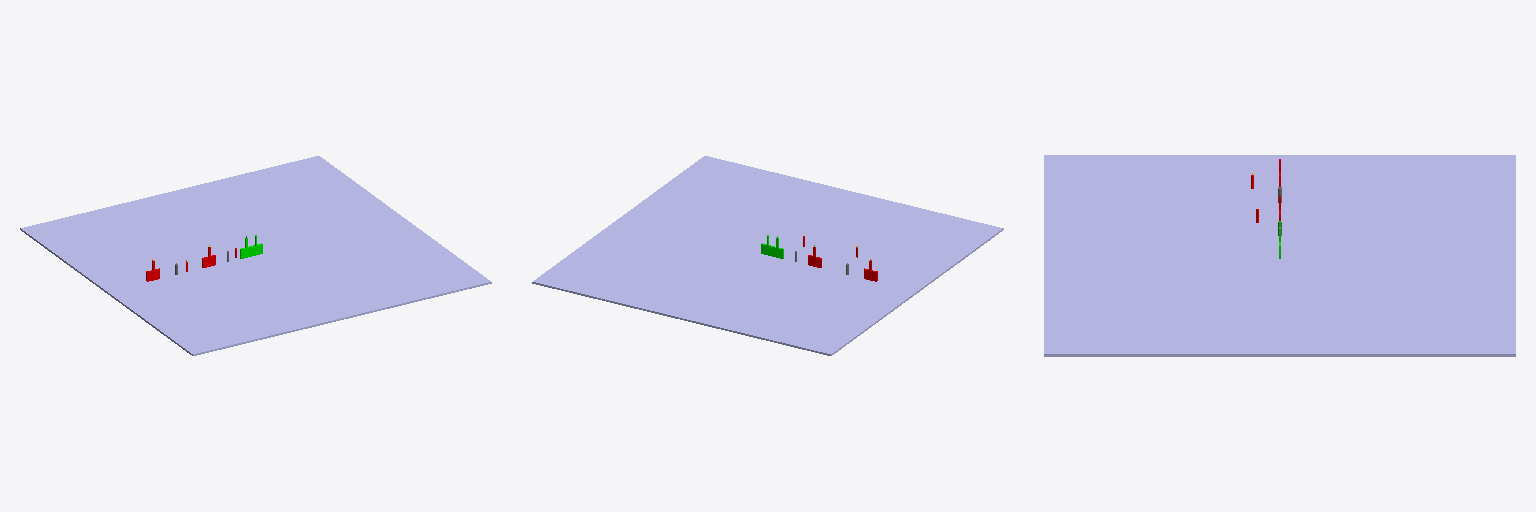
robot.urdf — lockbox_random:
<?xml version="1.0"?>
<!-- created with Phobos 1.0.1 "Capricious Choutengan" -->
  <robot name="lockbox_random">

    <link name="base_link">
      <inertial>
        <origin xyz="0 0 0" rpy="0 0 0"/>
        <mass value="0.001"/>
        <inertia ixx="0.001" ixy="0" ixz="0" iyy="0.001" iyz="0" izz="0.001"/>
      </inertial>
    </link>

    <link name="goal">
      <inertial>
        <origin xyz="0 0 0" rpy="0 0 0"/>
        <mass value="0.001"/>
        <inertia ixx="0.001" ixy="0" ixz="0" iyy="0.001" iyz="0" izz="0.001"/>
      </inertial>
      <visual name="visual_box_1_link_0.001">
        <origin xyz="0 0 0" rpy="0 0 0"/>
        <geometry>
          <box size="1.38803 0.19402 0.99002"/>
        </geometry>
        <material name="green_translucent"/>
      </visual>
    </link>

    <link name="link_0_joint_0">
      <inertial>
        <origin xyz="0 0 0" rpy="0 0 0"/>
        <mass value="0.001"/>
        <inertia ixx="0.001" ixy="0" ixz="0" iyy="0.001" iyz="0" izz="0.001"/>
      </inertial>
      <visual name="visual_box_1_link_0">
        <origin xyz="0 0 0" rpy="0 0 0"/>
        <geometry>
          <box size="1.395 0.195 0.995"/>
        </geometry>
        <material name="green"/>
      </visual>
      <collision name="collision_box_1_link_0">
        <origin xyz="0 0 0" rpy="0 0 0"/>
        <geometry>
          <box size="1.395 0.195 0.995"/>
        </geometry>
      </collision>
    </link>

    <link name="link_1_joint_0">
      <inertial>
        <origin xyz="0 0 0" rpy="0 0 0"/>
        <mass value="0.001"/>
        <inertia ixx="0.001" ixy="0" ixz="0" iyy="0.001" iyz="0" izz="0.001"/>
      </inertial>
      <visual name="visual_mesh_4_link_1">
        <origin xyz="0 0 0" rpy="0 0 0"/>
        <geometry>
          <mesh filename="file://[local-path]/ba/puzzle-generator/puzzles/lockbox_random/meshes/stl/slot_disc.stl" scale="1.0 1.0 1.0"/>
        </geometry>
        <material name="red"/>
      </visual>
      <collision concave="yes" name="collision_mesh_4_link_1">
        <origin xyz="0 0 0" rpy="0 0 0"/>
        <geometry>
          <mesh filename="file://[local-path]/ba/puzzle-generator/puzzles/lockbox_random/meshes/stl/slot_disc.001.stl" scale="1.0 1.0 1.0"/>
        </geometry>
      </collision>
    </link>

    <link name="link_2_joint_0">
      <inertial>
        <origin xyz="0 0 0" rpy="0 0 0"/>
        <mass value="0.001"/>
        <inertia ixx="0.001" ixy="0" ixz="0" iyy="0.001" iyz="0" izz="0.001"/>
      </inertial>
      <visual name="visual_box_8_link_2">
        <origin xyz="0 0 0" rpy="0 0 0"/>
        <geometry>
          <box size="1.395 0.195 0.995"/>
        </geometry>
        <material name="red"/>
      </visual>
      <collision name="collision_box_8_link_2">
        <origin xyz="0 0 0" rpy="0 0 0"/>
        <geometry>
          <box size="1.395 0.195 0.995"/>
        </geometry>
      </collision>
    </link>

    <link name="link_3_joint_0">
      <inertial>
        <origin xyz="0 0 0" rpy="0 0 0"/>
        <mass value="0.001"/>
        <inertia ixx="0.001" ixy="0" ixz="0" iyy="0.001" iyz="0" izz="0.001"/>
      </inertial>
      <visual name="visual_mesh_11_link_3">
        <origin xyz="0 0 0" rpy="0 0 0"/>
        <geometry>
          <mesh filename="file://[local-path]/ba/puzzle-generator/puzzles/lockbox_random/meshes/stl/slot_disc.002.stl" scale="1.0 1.0 1.0"/>
        </geometry>
        <material name="red"/>
      </visual>
      <collision concave="yes" name="collision_mesh_11_link_3">
        <origin xyz="0 0 0" rpy="0 0 0"/>
        <geometry>
          <mesh filename="file://[local-path]/ba/puzzle-generator/puzzles/lockbox_random/meshes/stl/slot_disc.003.stl" scale="1.0 1.0 1.0"/>
        </geometry>
      </collision>
    </link>

    <link name="link_4_joint_0">
      <inertial>
        <origin xyz="0 0 0" rpy="0 0 0"/>
        <mass value="0.001"/>
        <inertia ixx="0.001" ixy="0" ixz="0" iyy="0.001" iyz="0" izz="0.001"/>
      </inertial>
      <visual name="visual_box_15_link_4">
        <origin xyz="0 0 0" rpy="0 0 0"/>
        <geometry>
          <box size="1.395 0.195 0.995"/>
        </geometry>
        <material name="red"/>
      </visual>
      <collision name="collision_box_15_link_4">
        <origin xyz="0 0 0" rpy="0 0 0"/>
        <geometry>
          <box size="1.395 0.195 0.995"/>
        </geometry>
      </collision>
    </link>

    <link name="link_fixed_0_floor">
      <inertial>
        <origin xyz="0 0 0" rpy="0 0 0"/>
        <mass value="0.001"/>
        <inertia ixx="0.001" ixy="0" ixz="0" iyy="0.001" iyz="0" izz="0.001"/>
      </inertial>
      <visual name="visual_box_fixed_0_floor">
        <origin xyz="0 0 0" rpy="0 0 0"/>
        <geometry>
          <box size="31.995 31.995 0.195"/>
        </geometry>
        <material name="lavender"/>
      </visual>
      <collision name="collision_box_fixed_0_floor">
        <origin xyz="0 0 0" rpy="0 0 0"/>
        <geometry>
          <box size="31.995 31.995 0.195"/>
        </geometry>
      </collision>
    </link>

    <link name="link_fixed_10_handle_knob">
      <inertial>
        <origin xyz="0 0 0" rpy="0 0 0"/>
        <mass value="0.001"/>
        <inertia ixx="0.001" ixy="0" ixz="0" iyy="0.001" iyz="0" izz="0.001"/>
      </inertial>
      <visual name="visual_box_fixed_10_handle_knob">
        <origin xyz="0 0 0" rpy="0 0 0"/>
        <geometry>
          <box size="0.045 0.045 0.195"/>
        </geometry>
        <material name="yellow"/>
      </visual>
      <collision name="collision_box_fixed_10_handle_knob">
        <origin xyz="0 0 0" rpy="0 0 0"/>
        <geometry>
          <box size="0.045 0.045 0.195"/>
        </geometry>
      </collision>
    </link>

    <link name="link_fixed_12_hinge">
      <inertial>
        <origin xyz="0 0 0" rpy="0 0 0"/>
        <mass value="0.001"/>
        <inertia ixx="0.001" ixy="0" ixz="0" iyy="0.001" iyz="0" izz="0.001"/>
      </inertial>
      <visual name="visual_cylinder_fixed_12_hinge">
        <origin xyz="0 0 0" rpy="0 0 0"/>
        <geometry>
          <cylinder radius="0.15375" length="1.095"/>
        </geometry>
        <material name="gray"/>
      </visual>
    </link>

    <link name="link_fixed_13_handle_shaft">
      <inertial>
        <origin xyz="0 0 0" rpy="0 0 0"/>
        <mass value="0.001"/>
        <inertia ixx="0.001" ixy="0" ixz="0" iyy="0.001" iyz="0" izz="0.001"/>
      </inertial>
      <visual name="visual_cylinder_fixed_13_handle_shaft">
        <origin xyz="0 0 0" rpy="0 0 0"/>
        <geometry>
          <cylinder radius="0.0975" length="0.995"/>
        </geometry>
        <material name="red"/>
      </visual>
      <collision name="collision_cylinder_fixed_13_handle_shaft">
        <origin xyz="0 0 0" rpy="0 0 0"/>
        <geometry>
          <cylinder radius="0.0975" length="0.995"/>
        </geometry>
      </collision>
    </link>

    <link name="link_fixed_14_handle_knob">
      <inertial>
        <origin xyz="0 0 0" rpy="0 0 0"/>
        <mass value="0.001"/>
        <inertia ixx="0.001" ixy="0" ixz="0" iyy="0.001" iyz="0" izz="0.001"/>
      </inertial>
      <visual name="visual_box_fixed_14_handle_knob">
        <origin xyz="0 0 0" rpy="0 0 0"/>
        <geometry>
          <box size="0.045 0.045 0.195"/>
        </geometry>
        <material name="yellow"/>
      </visual>
      <collision name="collision_box_fixed_14_handle_knob">
        <origin xyz="0 0 0" rpy="0 0 0"/>
        <geometry>
          <box size="0.045 0.045 0.195"/>
        </geometry>
      </collision>
    </link>

    <link name="link_fixed_16_handle_shaft">
      <inertial>
        <origin xyz="0 0 0" rpy="0 0 0"/>
        <mass value="0.001"/>
        <inertia ixx="0.001" ixy="0" ixz="0" iyy="0.001" iyz="0" izz="0.001"/>
      </inertial>
      <visual name="visual_box_fixed_16_handle_shaft">
        <origin xyz="0 0 0" rpy="0 0 0"/>
        <geometry>
          <box size="0.195 0.195 0.995"/>
        </geometry>
        <material name="red"/>
      </visual>
      <collision name="collision_box_fixed_16_handle_shaft">
        <origin xyz="0 0 0" rpy="0 0 0"/>
        <geometry>
          <box size="0.195 0.195 0.995"/>
        </geometry>
      </collision>
    </link>

    <link name="link_fixed_17_handle_knob">
      <inertial>
        <origin xyz="0 0 0" rpy="0 0 0"/>
        <mass value="0.001"/>
        <inertia ixx="0.001" ixy="0" ixz="0" iyy="0.001" iyz="0" izz="0.001"/>
      </inertial>
      <visual name="visual_box_fixed_17_handle_knob">
        <origin xyz="0 0 0" rpy="0 0 0"/>
        <geometry>
          <box size="0.045 0.045 0.195"/>
        </geometry>
        <material name="yellow"/>
      </visual>
      <collision name="collision_box_fixed_17_handle_knob">
        <origin xyz="0 0 0" rpy="0 0 0"/>
        <geometry>
          <box size="0.045 0.045 0.195"/>
        </geometry>
      </collision>
    </link>

    <link name="link_fixed_2_handle_shaft">
      <inertial>
        <origin xyz="0 0 0" rpy="0 0 0"/>
        <mass value="0.001"/>
        <inertia ixx="0.001" ixy="0" ixz="0" iyy="0.001" iyz="0" izz="0.001"/>
      </inertial>
      <visual name="visual_box_fixed_2_handle_shaft">
        <origin xyz="0 0 0" rpy="0 0 0"/>
        <geometry>
          <box size="0.195 0.195 0.995"/>
        </geometry>
        <material name="green"/>
      </visual>
      <collision name="collision_box_fixed_2_handle_shaft">
        <origin xyz="0 0 0" rpy="0 0 0"/>
        <geometry>
          <box size="0.195 0.195 0.995"/>
        </geometry>
      </collision>
    </link>

    <link name="link_fixed_2_handle_shaft.001">
      <inertial>
        <origin xyz="0 0 0" rpy="0 0 0"/>
        <mass value="0.001"/>
        <inertia ixx="0.001" ixy="0" ixz="0" iyy="0.001" iyz="0" izz="0.001"/>
      </inertial>
      <visual name="visual_box_fixed_2_handle_shaft.001">
        <origin xyz="0 0 0" rpy="0 0 0"/>
        <geometry>
          <box size="0.19402 0.19402 0.99002"/>
        </geometry>
        <material name="green_translucent"/>
      </visual>
    </link>

    <link name="link_fixed_3_handle_knob">
      <inertial>
        <origin xyz="0 0 0" rpy="0 0 0"/>
        <mass value="0.001"/>
        <inertia ixx="0.001" ixy="0" ixz="0" iyy="0.001" iyz="0" izz="0.001"/>
      </inertial>
      <visual name="visual_box_fixed_3_handle_knob">
        <origin xyz="0 0 0" rpy="0 0 0"/>
        <geometry>
          <box size="0.045 0.045 0.195"/>
        </geometry>
        <material name="yellow"/>
      </visual>
      <collision name="collision_box_fixed_3_handle_knob">
        <origin xyz="0 0 0" rpy="0 0 0"/>
        <geometry>
          <box size="0.045 0.045 0.195"/>
        </geometry>
      </collision>
    </link>

    <link name="link_fixed_3_handle_knob.001">
      <inertial>
        <origin xyz="0 0 0" rpy="0 0 0"/>
        <mass value="0.001"/>
        <inertia ixx="0.001" ixy="0" ixz="0" iyy="0.001" iyz="0" izz="0.001"/>
      </inertial>
      <visual name="visual_box_fixed_3_handle_knob.001">
        <origin xyz="0 0 0" rpy="0 0 0"/>
        <geometry>
          <box size="0.04478 0.04478 0.19402"/>
        </geometry>
        <material name="green_translucent"/>
      </visual>
    </link>

    <link name="link_fixed_5_hinge">
      <inertial>
        <origin xyz="0 0 0" rpy="0 0 0"/>
        <mass value="0.001"/>
        <inertia ixx="0.001" ixy="0" ixz="0" iyy="0.001" iyz="0" izz="0.001"/>
      </inertial>
      <visual name="visual_cylinder_fixed_5_hinge">
        <origin xyz="0 0 0" rpy="0 0 0"/>
        <geometry>
          <cylinder radius="0.1225" length="1.095"/>
        </geometry>
        <material name="gray"/>
      </visual>
    </link>

    <link name="link_fixed_6_handle_shaft">
      <inertial>
        <origin xyz="0 0 0" rpy="0 0 0"/>
        <mass value="0.001"/>
        <inertia ixx="0.001" ixy="0" ixz="0" iyy="0.001" iyz="0" izz="0.001"/>
      </inertial>
      <visual name="visual_cylinder_fixed_6_handle_shaft">
        <origin xyz="0 0 0" rpy="0 0 0"/>
        <geometry>
          <cylinder radius="0.0975" length="0.995"/>
        </geometry>
        <material name="red"/>
      </visual>
      <collision name="collision_cylinder_fixed_6_handle_shaft">
        <origin xyz="0 0 0" rpy="0 0 0"/>
        <geometry>
          <cylinder radius="0.0975" length="0.995"/>
        </geometry>
      </collision>
    </link>

    <link name="link_fixed_7_handle_knob">
      <inertial>
        <origin xyz="0 0 0" rpy="0 0 0"/>
        <mass value="0.001"/>
        <inertia ixx="0.001" ixy="0" ixz="0" iyy="0.001" iyz="0" izz="0.001"/>
      </inertial>
      <visual name="visual_box_fixed_7_handle_knob">
        <origin xyz="0 0 0" rpy="0 0 0"/>
        <geometry>
          <box size="0.045 0.045 0.195"/>
        </geometry>
        <material name="yellow"/>
      </visual>
      <collision name="collision_box_fixed_7_handle_knob">
        <origin xyz="0 0 0" rpy="0 0 0"/>
        <geometry>
          <box size="0.045 0.045 0.195"/>
        </geometry>
      </collision>
    </link>

    <link name="link_fixed_9_handle_shaft">
      <inertial>
        <origin xyz="0 0 0" rpy="0 0 0"/>
        <mass value="0.001"/>
        <inertia ixx="0.001" ixy="0" ixz="0" iyy="0.001" iyz="0" izz="0.001"/>
      </inertial>
      <visual name="visual_box_fixed_9_handle_shaft">
        <origin xyz="0 0 0" rpy="0 0 0"/>
        <geometry>
          <box size="0.195 0.195 0.995"/>
        </geometry>
        <material name="red"/>
      </visual>
      <collision name="collision_box_fixed_9_handle_shaft">
        <origin xyz="0 0 0" rpy="0 0 0"/>
        <geometry>
          <box size="0.195 0.195 0.995"/>
        </geometry>
      </collision>
    </link>

    <joint name="goal" type="fixed">
      <origin xyz="-1.0 0 0.5" rpy="0 0 3.14159"/>
      <parent link="base_link"/>
      <child link="goal"/>
      <limit effort="0" velocity="0"/>
    </joint>

    <joint name="link_0_joint_0" type="prismatic">
      <origin xyz="0 0 0.5" rpy="0 0 3.14159"/>
      <parent link="base_link"/>
      <child link="link_0_joint_0"/>
      <axis xyz="1.0 0 0"/>
      <limit lower="0" upper="1.0" effort="0" velocity="0"/>
    </joint>

    <joint name="link_1_joint_0" type="revolute">
      <origin xyz="-3.0 0 0.5" rpy="0 0 3.14159"/>
      <parent link="base_link"/>
      <child link="link_1_joint_0"/>
      <axis xyz="0 0 1.0"/>
      <limit lower="-3.14159" upper="3.14159" effort="0" velocity="0"/>
    </joint>

    <joint name="link_2_joint_0" type="prismatic">
      <origin xyz="-5.0 0 0.5" rpy="0 0 3.14159"/>
      <parent link="base_link"/>
      <child link="link_2_joint_0"/>
      <axis xyz="1.0 0 0"/>
      <limit lower="0" upper="1.0" effort="0" velocity="0"/>
    </joint>

    <joint name="link_3_joint_0" type="revolute">
      <origin xyz="-8.5 0 0.5" rpy="0 0 3.14159"/>
      <parent link="base_link"/>
      <child link="link_3_joint_0"/>
      <axis xyz="0 0 1.0"/>
      <limit lower="-3.14159" upper="3.14159" effort="0" velocity="0"/>
    </joint>

    <joint name="link_4_joint_0" type="prismatic">
      <origin xyz="-11.0 0 0.5" rpy="0 0 3.14159"/>
      <parent link="base_link"/>
      <child link="link_4_joint_0"/>
      <axis xyz="1.0 0 0"/>
      <limit lower="0" upper="1.0" effort="0" velocity="0"/>
    </joint>

    <joint name="link_fixed_0_floor" type="fixed">
      <origin xyz="0 0 -0.1" rpy="0 0 0"/>
      <parent link="base_link"/>
      <child link="link_fixed_0_floor"/>
    </joint>

    <joint name="link_fixed_10_handle_knob" type="fixed">
      <origin xyz="0 0 0.6" rpy="0 0 0"/>
      <parent link="link_fixed_9_handle_shaft"/>
      <child link="link_fixed_10_handle_knob"/>
    </joint>

    <joint name="link_fixed_12_hinge" type="fixed">
      <origin xyz="0 0 0" rpy="0 0 0"/>
      <parent link="link_3_joint_0"/>
      <child link="link_fixed_12_hinge"/>
    </joint>

    <joint name="link_fixed_13_handle_shaft" type="fixed">
      <origin xyz="0 1.875 1.0" rpy="0 0 0"/>
      <parent link="link_3_joint_0"/>
      <child link="link_fixed_13_handle_shaft"/>
    </joint>

    <joint name="link_fixed_14_handle_knob" type="fixed">
      <origin xyz="0 0 0.6" rpy="0 0 0"/>
      <parent link="link_fixed_13_handle_shaft"/>
      <child link="link_fixed_14_handle_knob"/>
    </joint>

    <joint name="link_fixed_16_handle_shaft" type="fixed">
      <origin xyz="0 0 1.0" rpy="0 0 0"/>
      <parent link="link_4_joint_0"/>
      <child link="link_fixed_16_handle_shaft"/>
    </joint>

    <joint name="link_fixed_17_handle_knob" type="fixed">
      <origin xyz="0 0 0.6" rpy="0 0 0"/>
      <parent link="link_fixed_16_handle_shaft"/>
      <child link="link_fixed_17_handle_knob"/>
    </joint>

    <joint name="link_fixed_2_handle_shaft" type="fixed">
      <origin xyz="0 0 1.0" rpy="0 0 0"/>
      <parent link="link_0_joint_0"/>
      <child link="link_fixed_2_handle_shaft"/>
    </joint>

    <joint name="link_fixed_2_handle_shaft.001" type="fixed">
      <origin xyz="0 0 0.995" rpy="0 0 0"/>
      <parent link="goal"/>
      <child link="link_fixed_2_handle_shaft.001"/>
    </joint>

    <joint name="link_fixed_3_handle_knob" type="fixed">
      <origin xyz="0 0 0.6" rpy="0 0 0"/>
      <parent link="link_fixed_2_handle_shaft"/>
      <child link="link_fixed_3_handle_knob"/>
    </joint>

    <joint name="link_fixed_3_handle_knob.001" type="fixed">
      <origin xyz="0 0 0.597" rpy="0 0 0"/>
      <parent link="link_fixed_2_handle_shaft.001"/>
      <child link="link_fixed_3_handle_knob.001"/>
    </joint>

    <joint name="link_fixed_5_hinge" type="fixed">
      <origin xyz="0 0 0" rpy="0 0 0"/>
      <parent link="link_1_joint_0"/>
      <child link="link_fixed_5_hinge"/>
    </joint>

    <joint name="link_fixed_6_handle_shaft" type="fixed">
      <origin xyz="0 1.5 1.0" rpy="0 0 0"/>
      <parent link="link_1_joint_0"/>
      <child link="link_fixed_6_handle_shaft"/>
    </joint>

    <joint name="link_fixed_7_handle_knob" type="fixed">
      <origin xyz="0 0 0.6" rpy="0 0 0"/>
      <parent link="link_fixed_6_handle_shaft"/>
      <child link="link_fixed_7_handle_knob"/>
    </joint>

    <joint name="link_fixed_9_handle_shaft" type="fixed">
      <origin xyz="0 0 1.0" rpy="0 0 0"/>
      <parent link="link_2_joint_0"/>
      <child link="link_fixed_9_handle_shaft"/>
    </joint>

    <material name="gray">
      <color rgba="0.5 0.5 0.5 1.0"/>
    </material>

    <material name="green">
      <color rgba="0 1.0 0 1.0"/>
    </material>

    <material name="green_translucent">
      <color rgba="0 1.0 0 0.25"/>
    </material>

    <material name="lavender">
      <color rgba="0.8 0.8 1.0 1.0"/>
    </material>

    <material name="red">
      <color rgba="1.0 0 0 1.0"/>
    </material>

    <material name="yellow">
      <color rgba="1.0 1.0 0 1.0"/>
    </material>

  </robot>

--- Render facts (derived) ---
The picture shows the robot from 3 angles, left to right: view 1: azimuth 30°, elevation 25°; view 2: azimuth 150°, elevation 25°; view 3: azimuth 270°, elevation 25°; orthographic projection.
Robot: lockbox_random — 22 links, 21 joints (2 revolute, 3 prismatic, 16 fixed); root link base_link; default pose: all joints at 0.
Visible links, largest first — view 1: link_fixed_0_floor; view 2: link_fixed_0_floor; view 3: link_fixed_0_floor.
Boxes of the visible links, box(x1,y1,x2,y2) form: link_fixed_0_floor: box(20, 156, 491, 355); link_fixed_0_floor: box(532, 156, 1003, 355); link_fixed_0_floor: box(1044, 155, 1515, 356).
Bounding box of the posed robot: 32 × 32 × 2.4 m (x, y, z).
Geometry: only primitive shapes (box / cylinder / sphere) drawn; not drawn: 2 mesh visuals (reference in a form the renderer does not follow).
